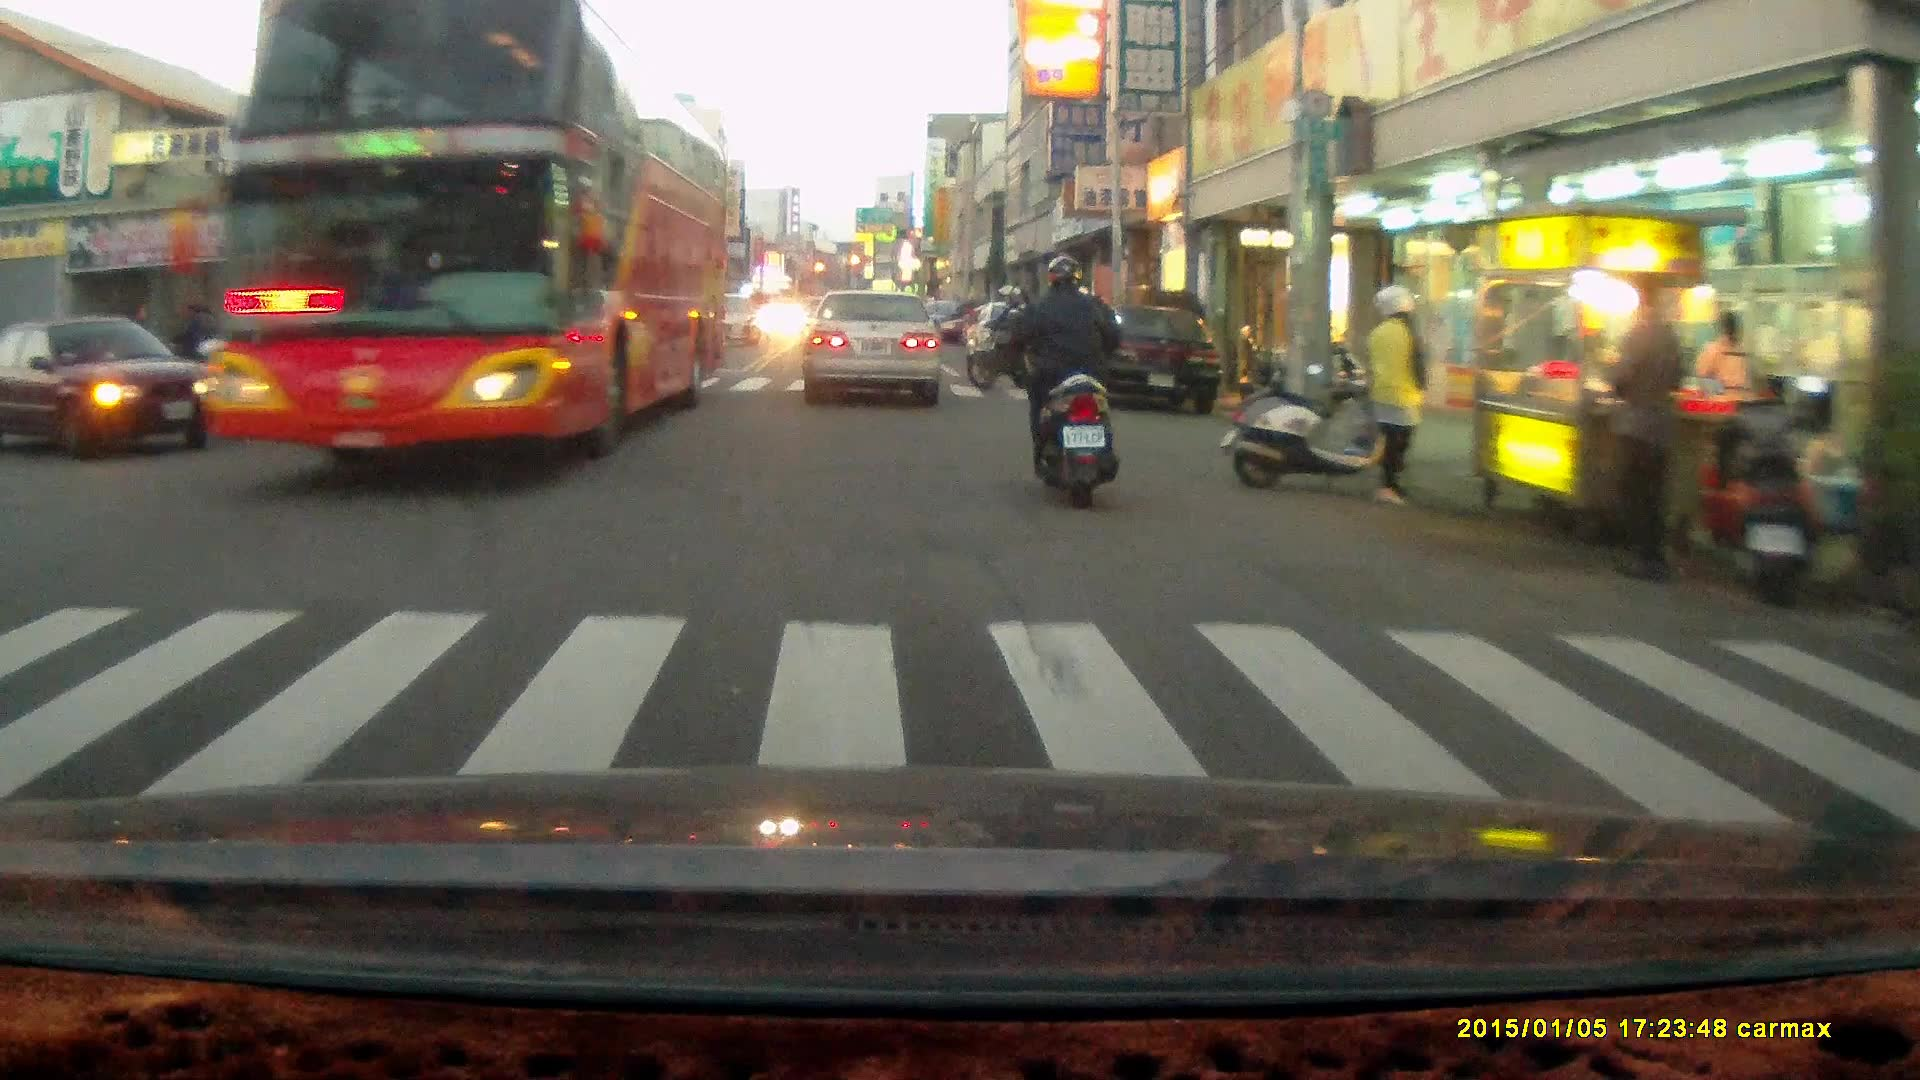pedestrian: (1599, 278, 1688, 585), (1361, 285, 1432, 510), (1699, 310, 1759, 484)
rider: (1003, 254, 1120, 509), (148, 299, 225, 398), (966, 283, 1036, 391)
vehicle: (201, 30, 725, 464), (1, 313, 226, 460), (1065, 302, 1228, 418), (801, 292, 945, 406)
